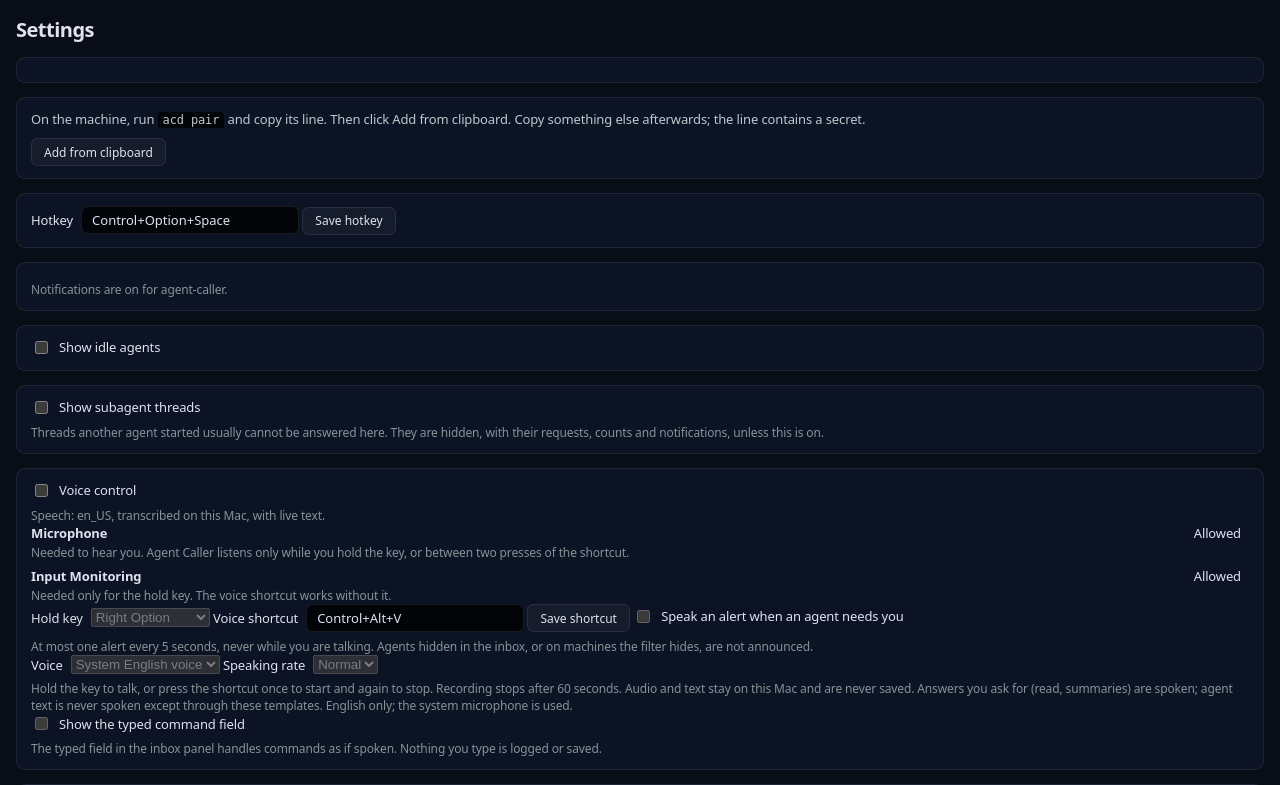
Test case: a failed voice change puts the box back and says why
Click the checkbox labelled "Voice control" at (42, 490), box [35,484,48,496]
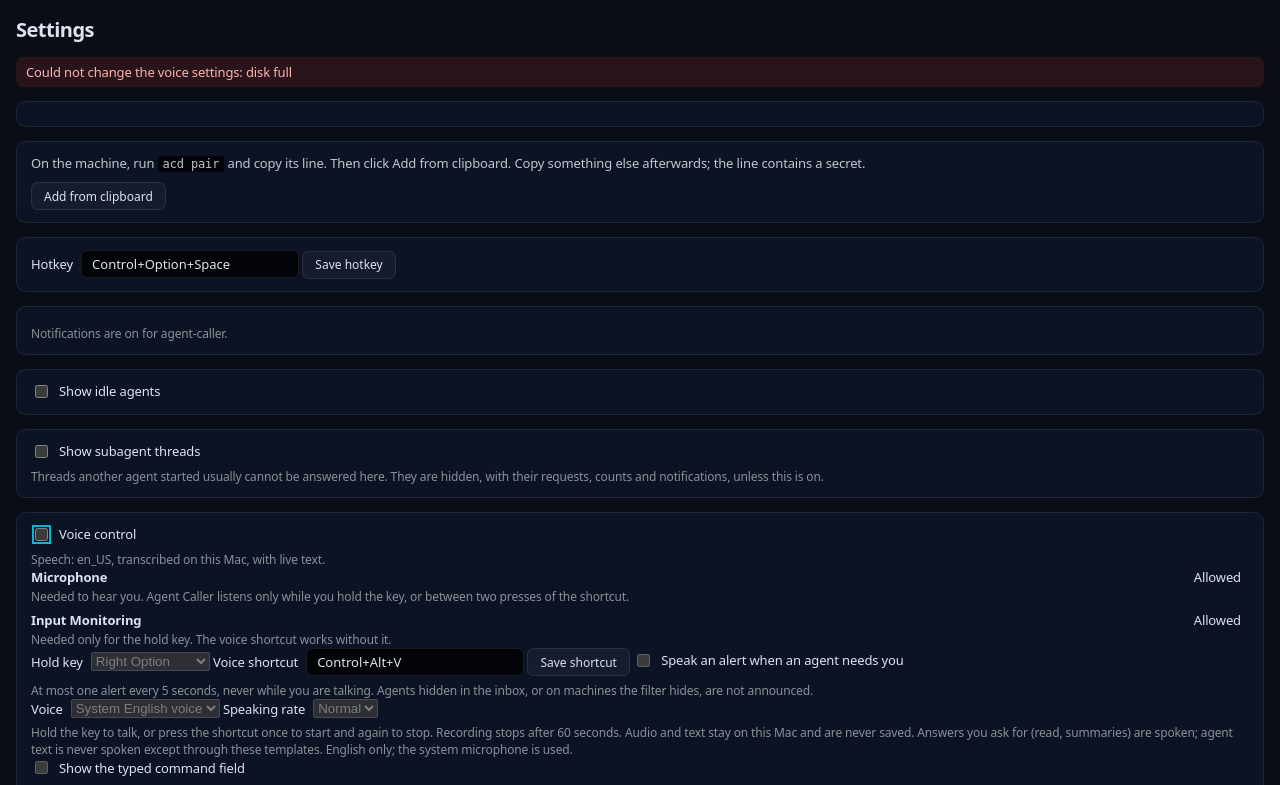
Check: the checkbox labelled "Voice control" is not checked, box [35,528,48,540]
Check: the message "Could not change the voice settings: disk full" is shown, box [16,57,1264,87]
